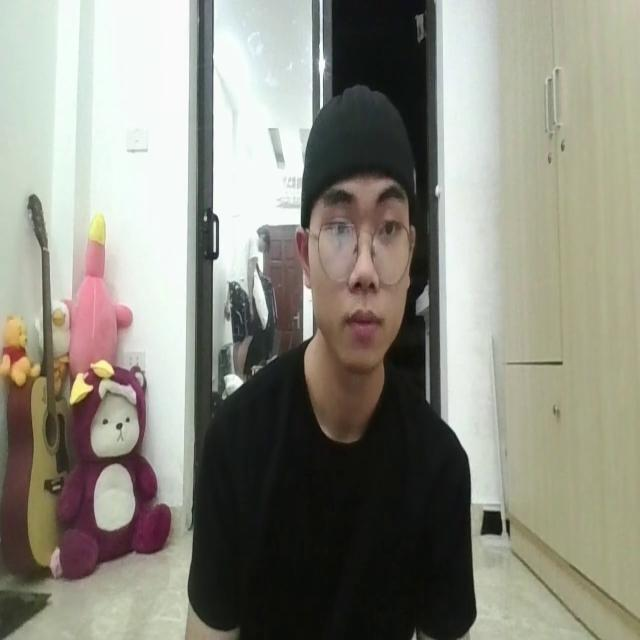student: (195, 73, 471, 640)
